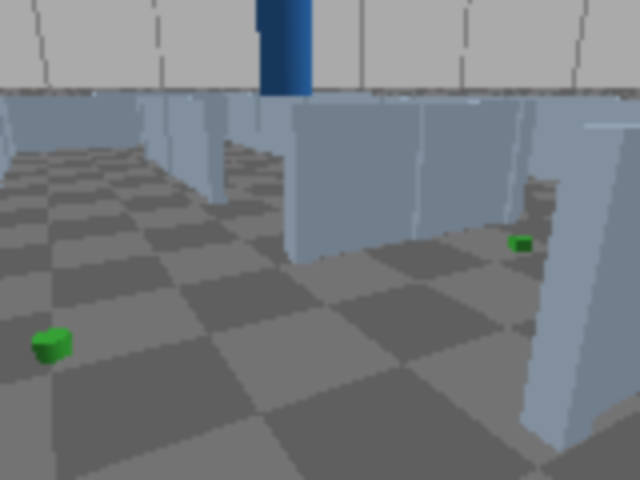puck: (32, 329, 73, 362), (508, 235, 533, 253)
